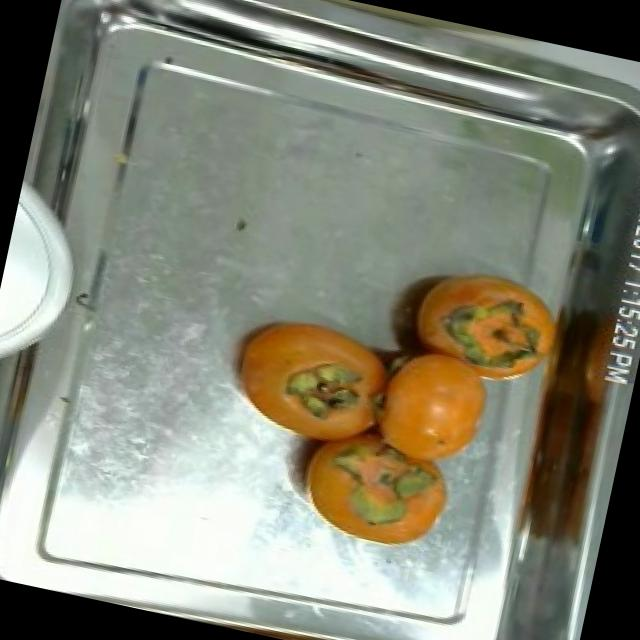Fruit: (207, 294, 414, 459), (273, 408, 471, 564), (352, 325, 513, 486), (412, 253, 574, 392)
